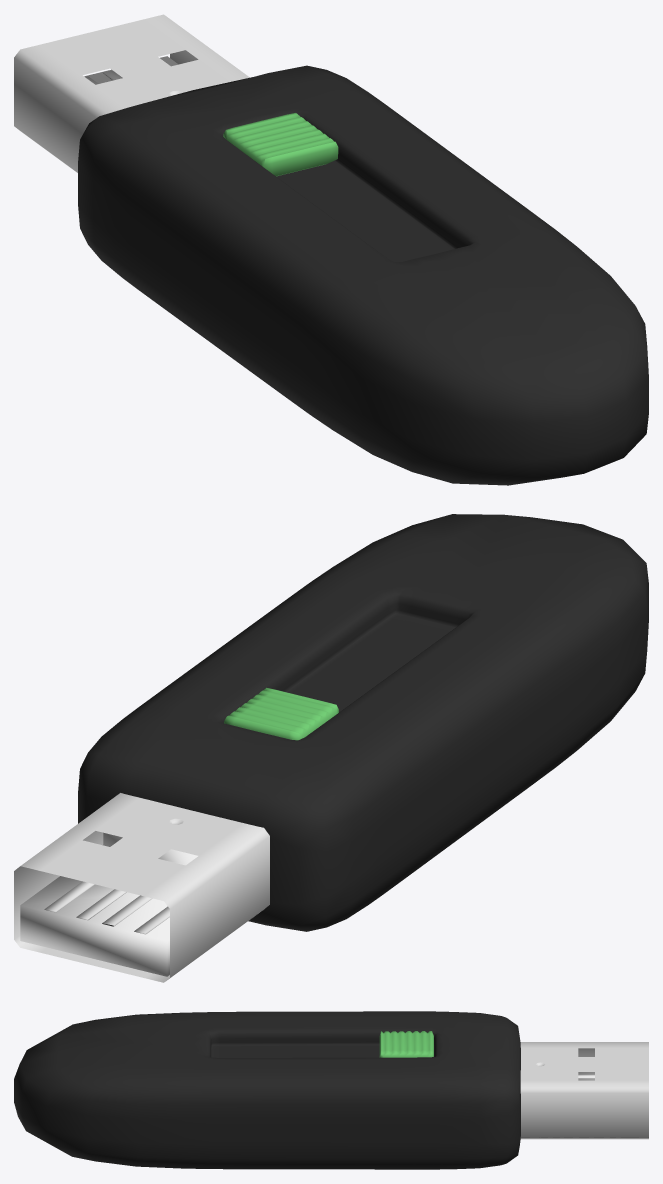
File: flesh.gltf
3 renders of one model, top to bottom at view 1: azimuth 30°, elevation 25°; view 2: azimuth 150°, elevation 25°; view 3: azimuth 270°, elevation 25°, orthographic. The views are drawn at different scales.
Visible parts, largest first — view 1: Cube.001; view 2: Cube.001; view 3: Cube.001.
Boxes of the visible parts, bbox=[...] form: Cube.001: bbox=[14, 14, 648, 485]; Cube.001: bbox=[14, 514, 648, 982]; Cube.001: bbox=[14, 1011, 648, 1169].
Size of the model in its own units: 0.173 by 0.0936 by 0.5658.
Materials: 1 (1 with a texture image).
